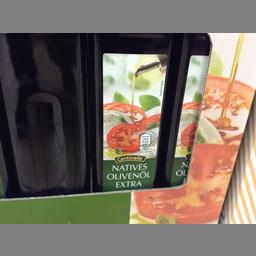oil: (88, 32, 173, 189)
